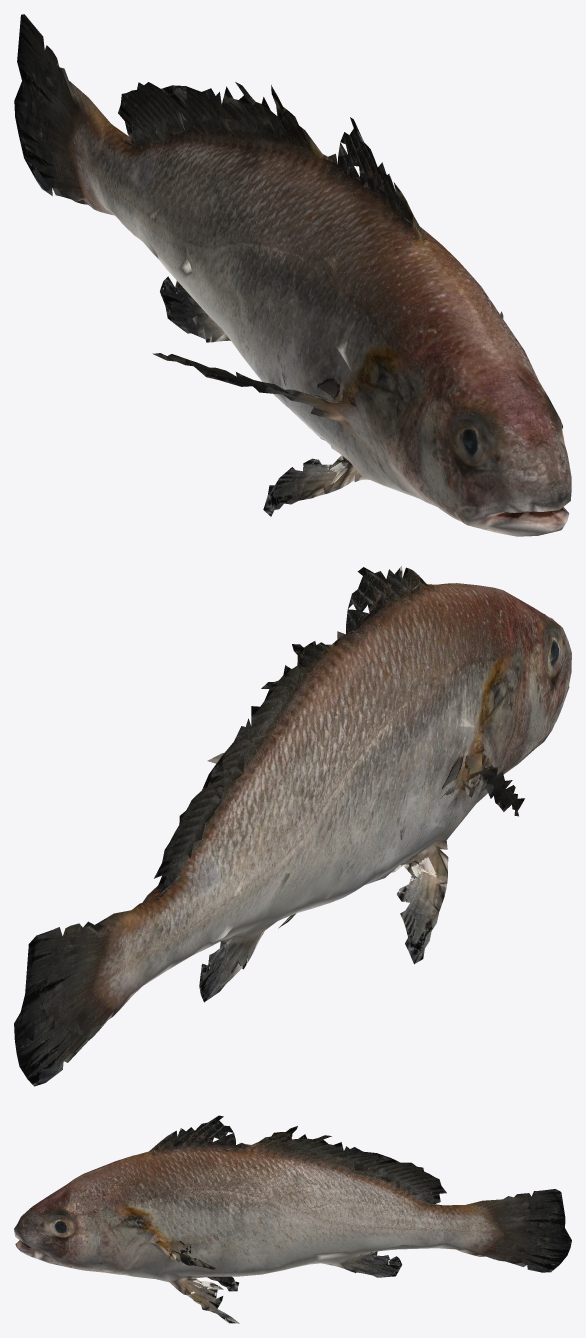
Rendered from corvina.glb.
3 views of the same model, one above another, from view 1: azimuth 30°, elevation 25°; view 2: azimuth 150°, elevation 25°; view 3: azimuth 270°, elevation 25° (orthographic). The views are drawn at different scales.
Visible parts, largest first — view 1: lo; view 2: lo; view 3: lo.
Boxes of the visible parts, x1,y1,x2,y2 form: lo: (14,14,571,536); lo: (14,566,571,1086); lo: (14,1115,571,1323).
Bounding box in the file's own units: 0.3499 × 0.3822 × 0.9984.
1 material, 1 textured.
